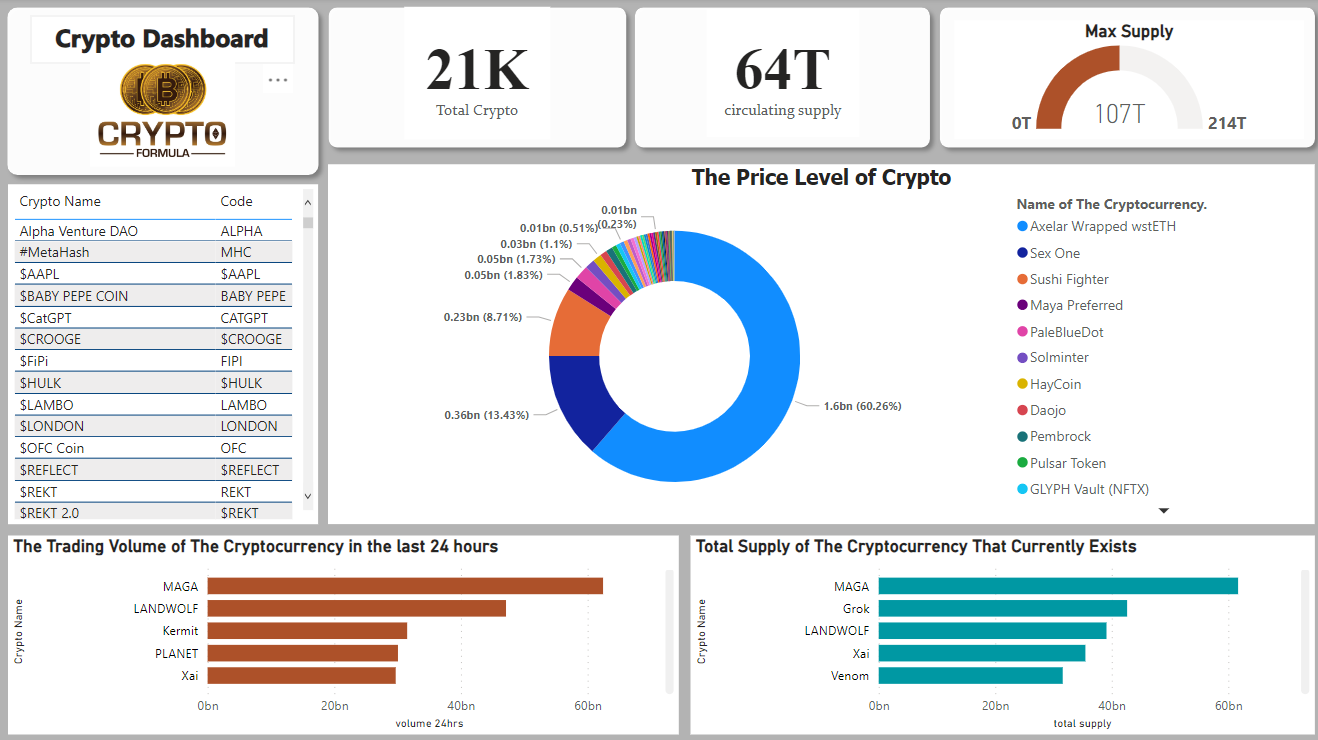

The page's visual inventory and layout, read from the dashboard file:
{"tool":"powerbi","page":{"name":"Crypto Dashboard","canvas":[1280,720],"ordinal":0},"visuals":[{"type":"shape","box":[309.9,0,305.1,153.2],"z":1000},{"type":"shape","box":[0,0,318.3,179.7],"z":2000},{"type":"textbox","box":[31.6,16.5,253.8,46.6],"z":3000},{"type":"image","box":[68.6,48,179.7,119.4],"z":4000},{"type":"card","fields":{"Values":["All Measures.Total Crypto"]},"box":[392,8.4,141.1,127.8],"z":5000},{"type":"donutChart","title":"The Price Level of Crypto","fields":{"Category":["Crypto.name"],"Y":["Sum(Crypto.price)"]},"box":[318.3,160.5,952.1,347.1],"z":6000},{"type":"tableEx","fields":{"Values":["Crypto.name","Crypto.abbr"]},"box":[9.6,179.7,299.1,327.9],"z":7000},{"type":"clusteredBarChart","title":"The Trading Volume of The Cryptocurrency in the last 24 hours","fields":{"Category":["Crypto.Crypto Name"],"Y":["Sum(Crypto.volume 24hrs)"]},"box":[9.6,518.6,647.5,192.1],"z":8000},{"type":"shape","box":[605.4,0,302.7,153.2],"z":9000},{"type":"barChart","title":"Total Supply of The Cryptocurrency That Currently Exists","fields":{"Category":["Crypto.Crypto Name"],"Y":["Sum(Crypto.total supply)"]},"box":[668.1,518.6,602.3,192.1],"z":10000},{"type":"card","fields":{"Values":["Sum(Crypto.circulating supply)"]},"box":[683.8,10.9,147.1,123],"z":11000},{"type":"shape","box":[899.7,0,379.9,153.2],"z":13000},{"type":"gauge","title":"Max Supply","fields":{"Y":["Sum(Crypto.max supply)"]},"box":[922.6,21.7,337.7,114.6],"z":14000}]}

Visuals, with their boxes in screenshot pixels (x1, y1, x2, y2), scaled from the page's 1280x720 canvas onto the 1318x740 screenshot:
shape: [319, 0, 633, 157]
shape: [0, 0, 328, 185]
textbox: [33, 17, 294, 65]
image: [71, 49, 256, 172]
card - All Measures.Total Crypto: [404, 9, 549, 140]
"The Price Level of Crypto" donutChart: [328, 165, 1308, 522]
tableEx - Crypto.name x Crypto.abbr: [10, 185, 318, 522]
"The Trading Volume of The Cryptocurrency in the last 24 hours" clusteredBarChart: [10, 533, 677, 730]
shape: [623, 0, 935, 157]
"Total Supply of The Cryptocurrency That Currently Exists" barChart: [688, 533, 1308, 730]
card - Sum(Crypto.circulating supply): [704, 11, 856, 138]
shape: [926, 0, 1317, 157]
"Max Supply" gauge: [950, 22, 1298, 140]
